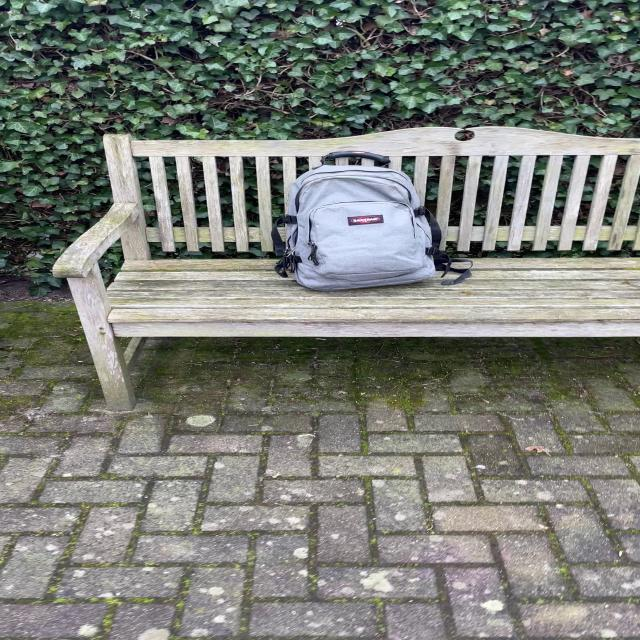backpack: (270, 147, 451, 295)
